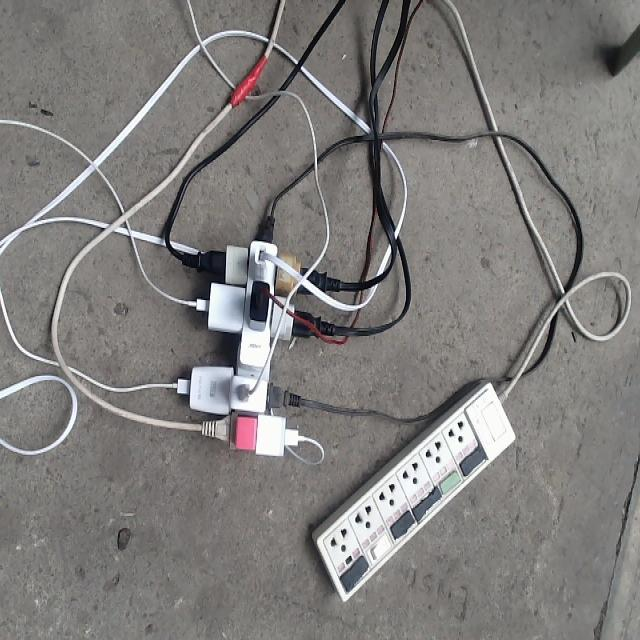-: (174, 212, 342, 463)
